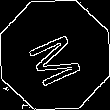M_NE: (23, 24, 87, 86)
